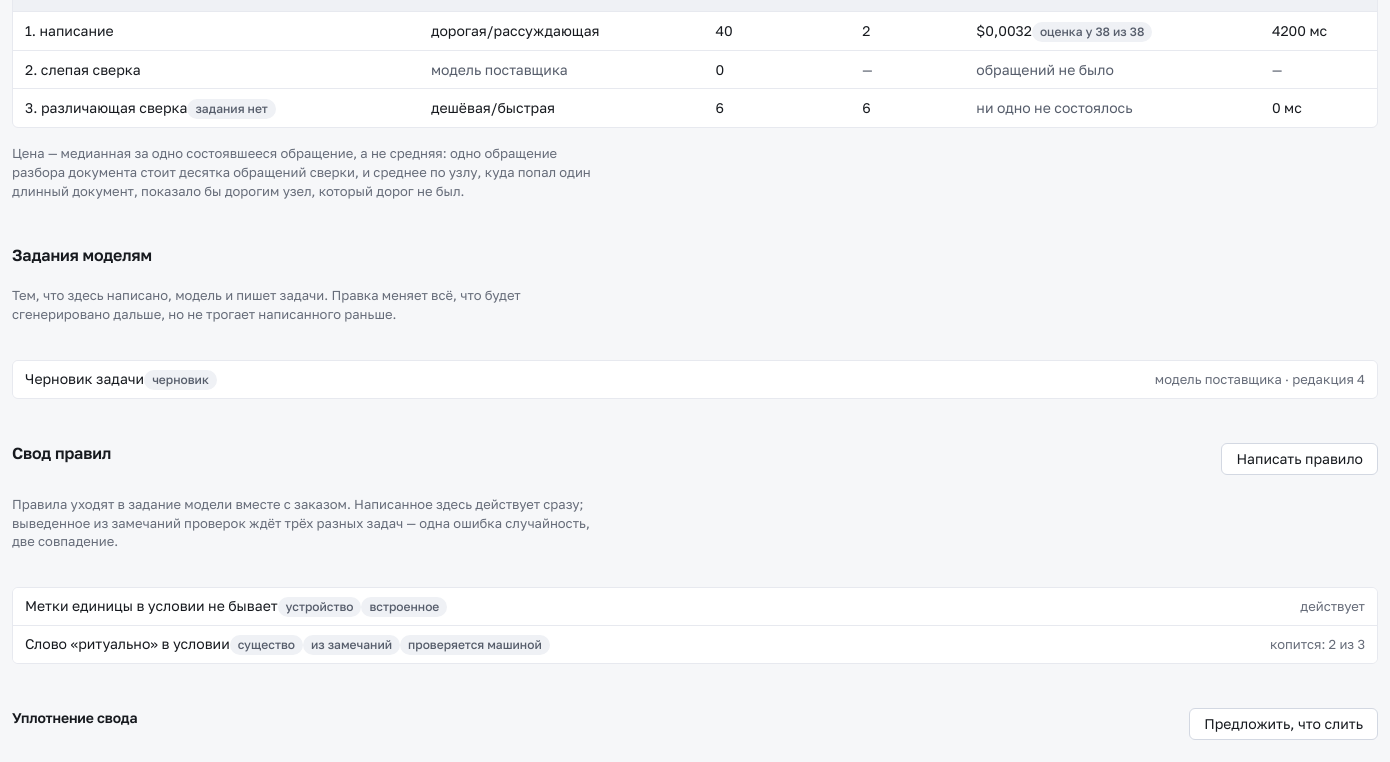
Scenario: мастерская › отказ списка моделей не ломает правку задания
(page scrolled)
What coordinates should you click on to do the following:
click the text "Черновик задачи"
I would click on:
 (121, 379)
Its box is [25,369,217,390].
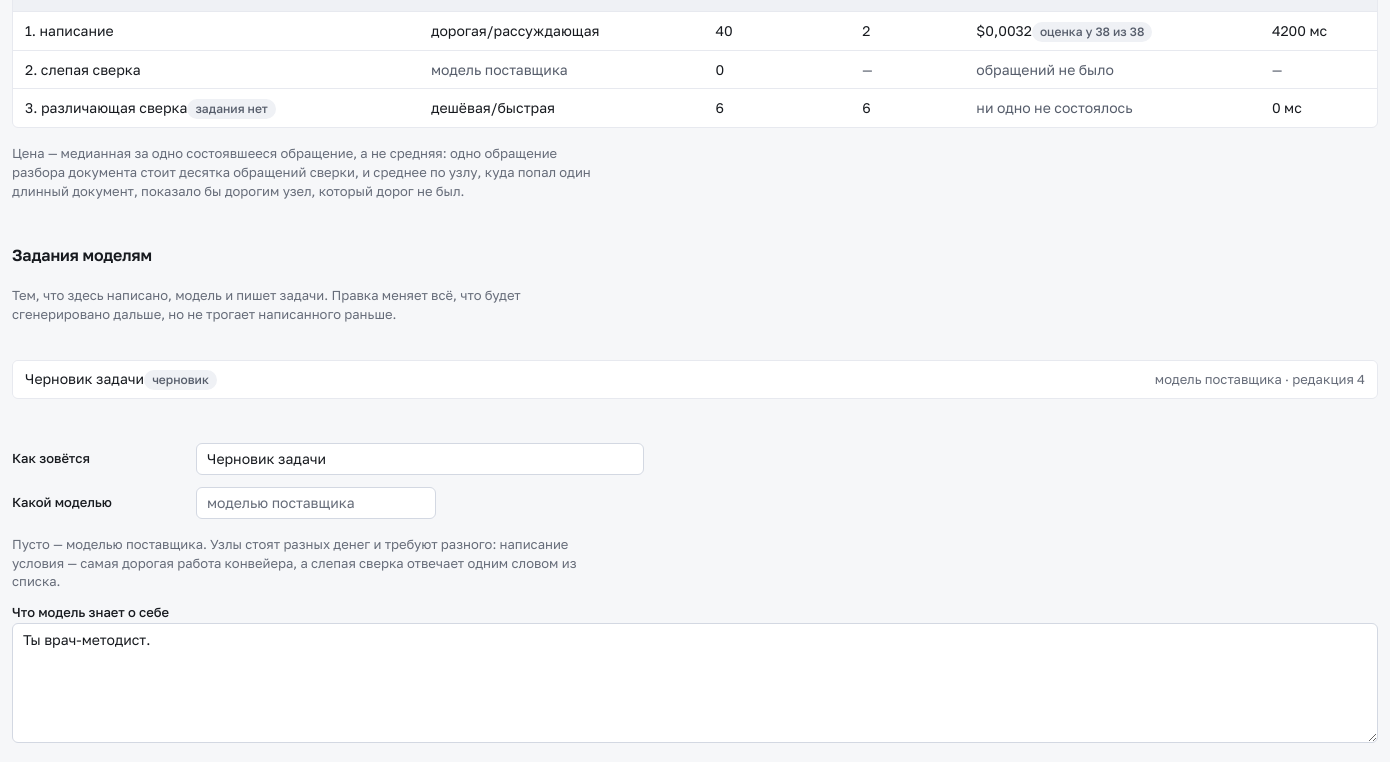
Expected: the field with placeholder "моделью поставщика" is shown, [196,487,436,519]
